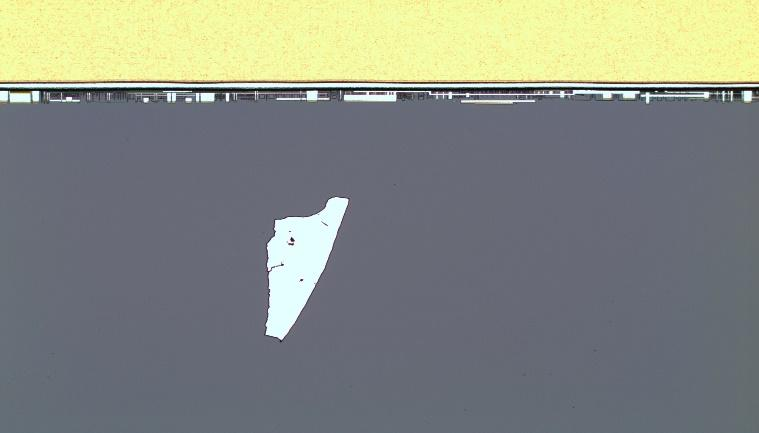BLOCK ETCH: (254, 191, 357, 348)
